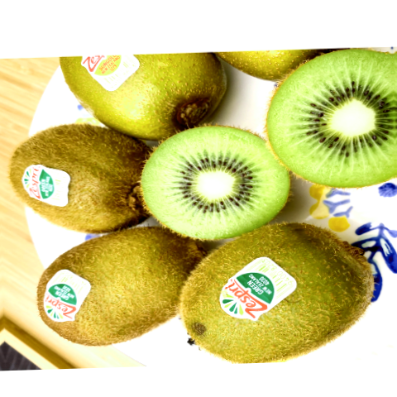kiwi: (161, 203, 375, 373), (16, 227, 219, 348), (2, 110, 162, 244)
